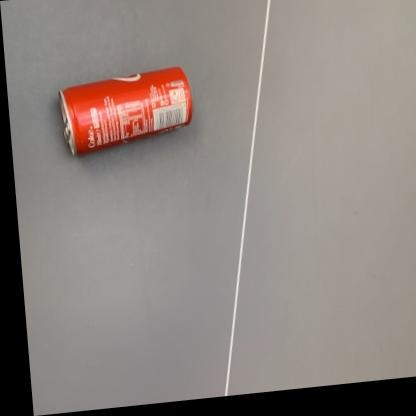trash: (59, 67, 191, 154)
